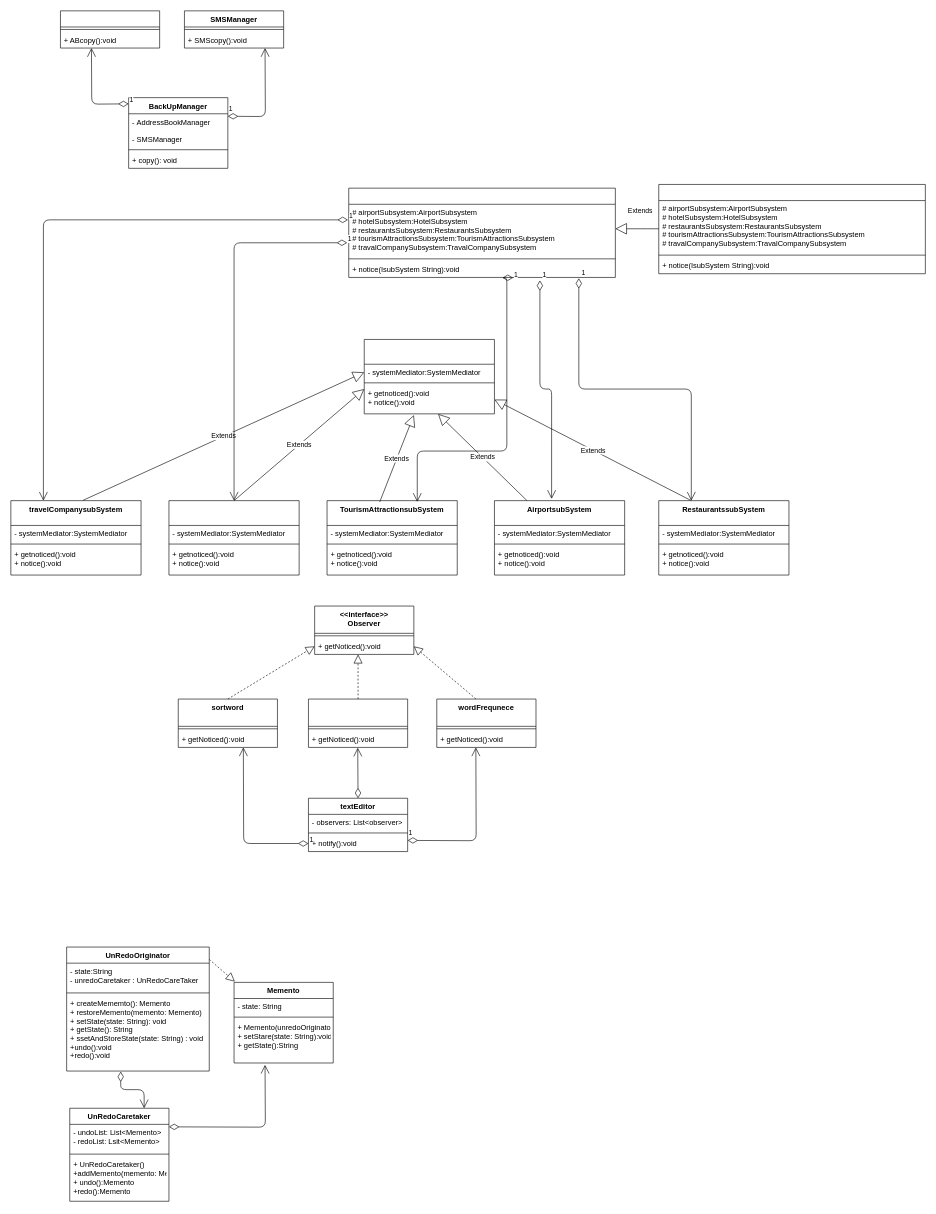
This 936x1214 diagram has some shape labels left out. Each missing label, with the box of its shape:
AddressBookManager: (60, 10, 160, 48)
concreteMediator: (658, 184, 925, 274)
HotelsubSystem: (168, 500, 299, 575)
IsubSystem: (364, 339, 494, 414)
SystemMediator: (348, 188, 615, 277)
wordCount: (308, 698, 408, 747)
